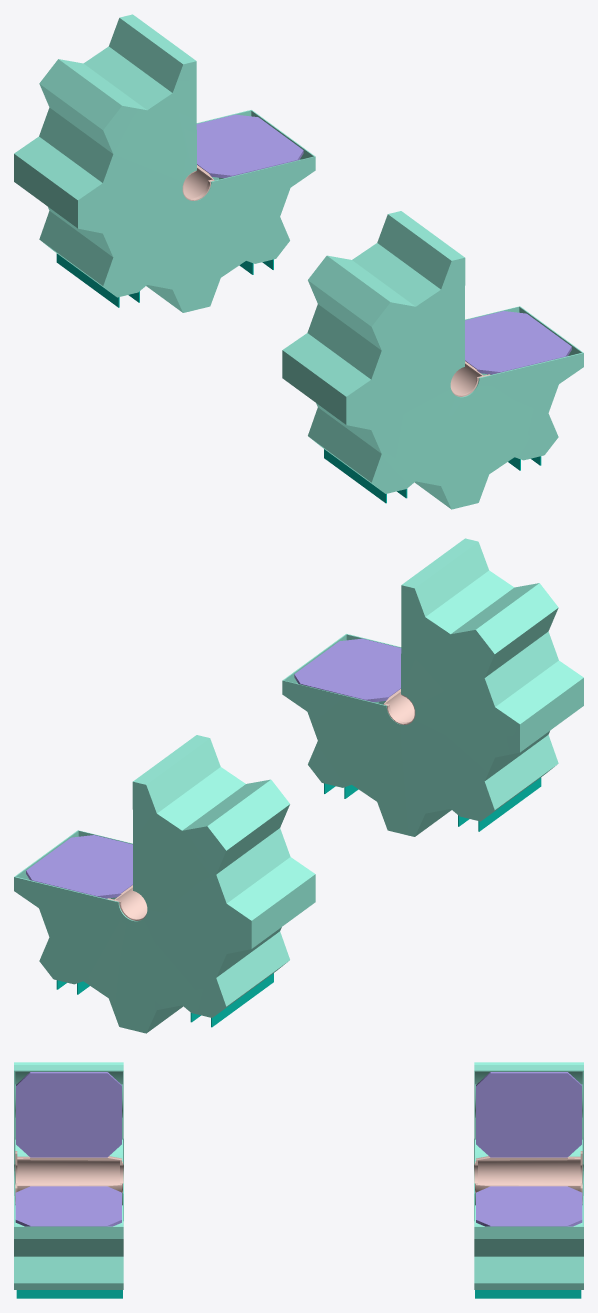
Rendered from magnet-toroid-endcap-cut-3.glb.
3 renders of one model, top to bottom at view 1: azimuth 30°, elevation 25°; view 2: azimuth 150°, elevation 25°; view 3: azimuth 270°, elevation 25°, orthographic. The views are drawn at different scales.
Visible parts, largest first — view 1: endcap toroid side C.009, endcap toroid side A.001; view 2: endcap toroid side A.001, endcap toroid side C.009; view 3: endcap toroid side A.001, endcap toroid side C.009.
Part boxes in pixels (x1,y1,x2,y2): endcap toroid side C.009: (14,14,315,312); endcap toroid side A.001: (282,211,583,509); endcap toroid side A.001: (282,538,583,836); endcap toroid side C.009: (14,735,315,1033); endcap toroid side A.001: (14,1062,123,1298); endcap toroid side C.009: (474,1062,583,1298).
Bounding box in the file's own units: 10.64 × 10.64 × 25.77.
